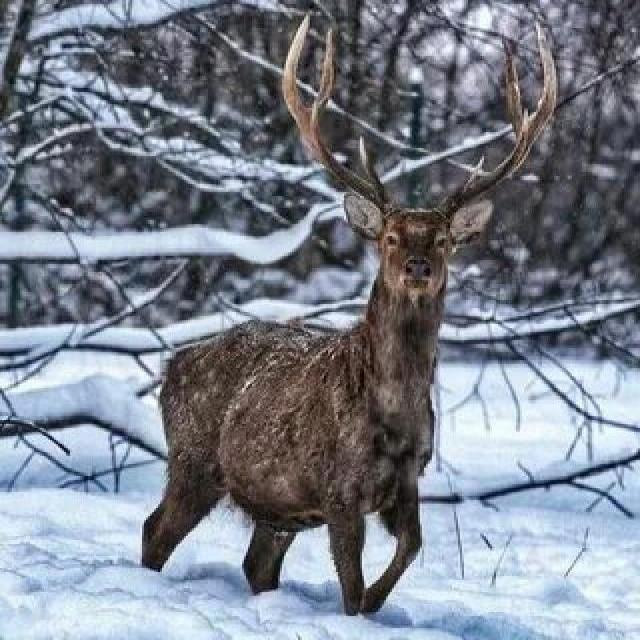deer: (168, 125, 580, 632)
